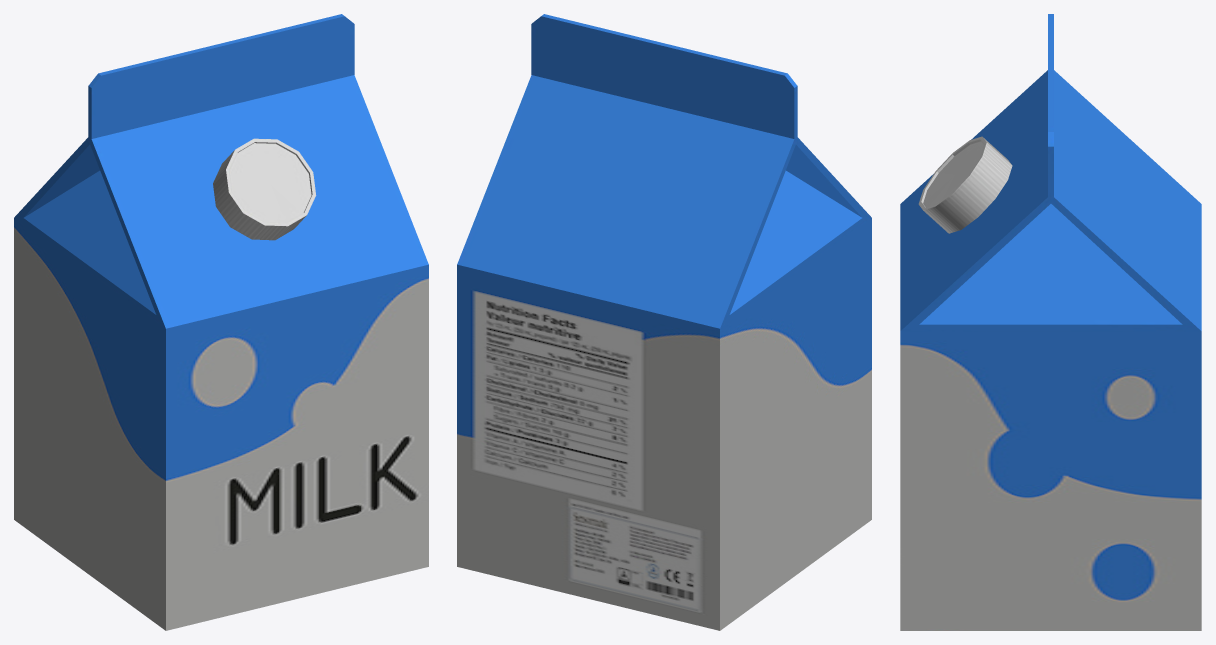
Rendered from SmallMilkBox_1.fbx.
3 renders of one model, left to right at view 1: azimuth 30°, elevation 25°; view 2: azimuth 150°, elevation 25°; view 3: azimuth 270°, elevation 25°, orthographic.
Visible parts, largest first — view 1: SmallMilkBox_1; view 2: SmallMilkBox_1; view 3: SmallMilkBox_1.
Part boxes in pixels (bbox=[...]): SmallMilkBox_1: bbox=[14, 14, 428, 630]; SmallMilkBox_1: bbox=[457, 14, 871, 630]; SmallMilkBox_1: bbox=[900, 14, 1201, 630].
Bounding box in the file's own units: 32.64 × 59.12 × 32.64.
Materials: 1 (1 with a texture image).
